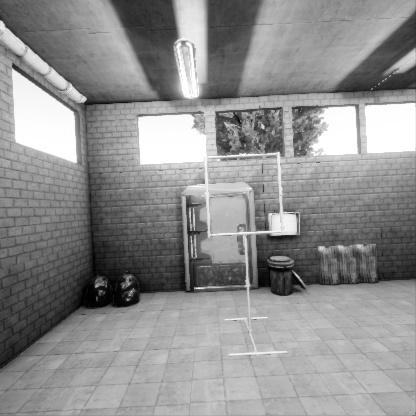gate: (203, 182, 288, 267)
